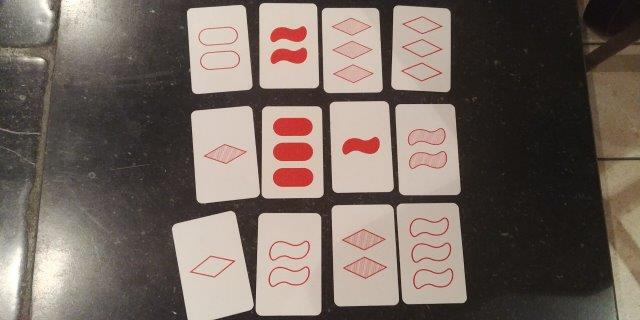1ED: (187, 224, 238, 310)
1FW: (333, 105, 387, 190)
1HD: (198, 113, 251, 197)
2EP: (193, 9, 245, 87)
2EW: (259, 217, 317, 312)
2FW: (262, 6, 315, 84)
2HD: (335, 212, 392, 300)
2HW: (400, 106, 452, 191)
3ED: (397, 11, 447, 88)
3EW: (403, 207, 457, 299)
3FP: (265, 109, 321, 195)
3HD: (325, 9, 378, 89)
